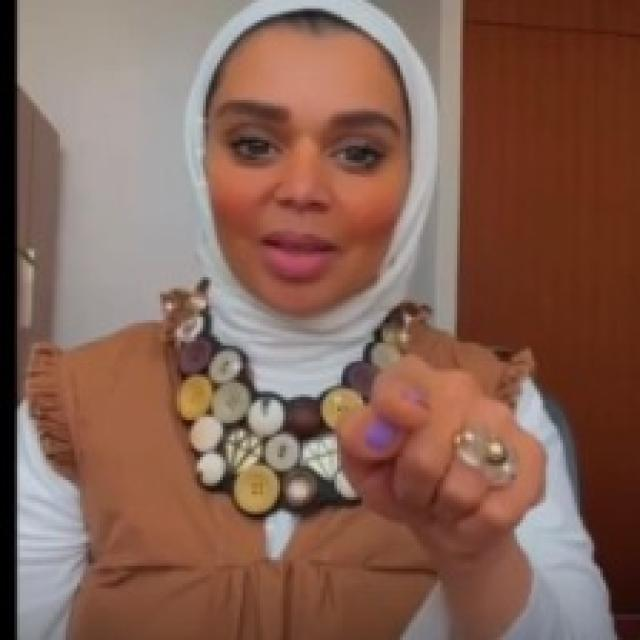you: (332, 350, 552, 556)
